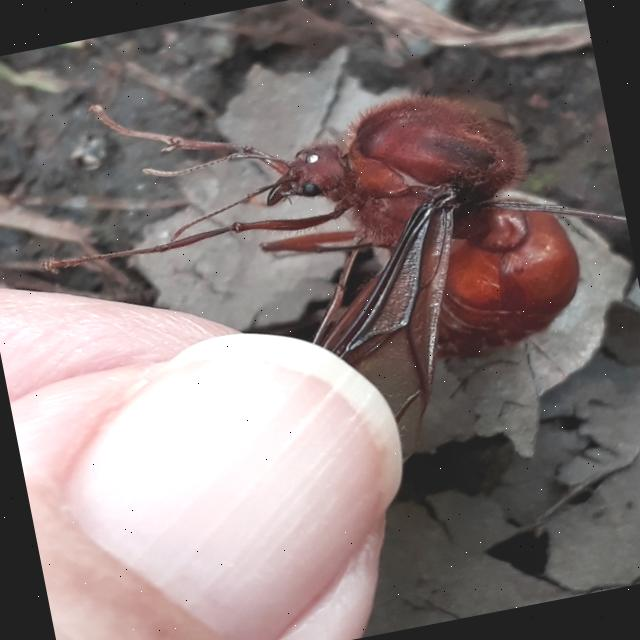Dead-Male-Alate: (11, 8, 640, 535)
